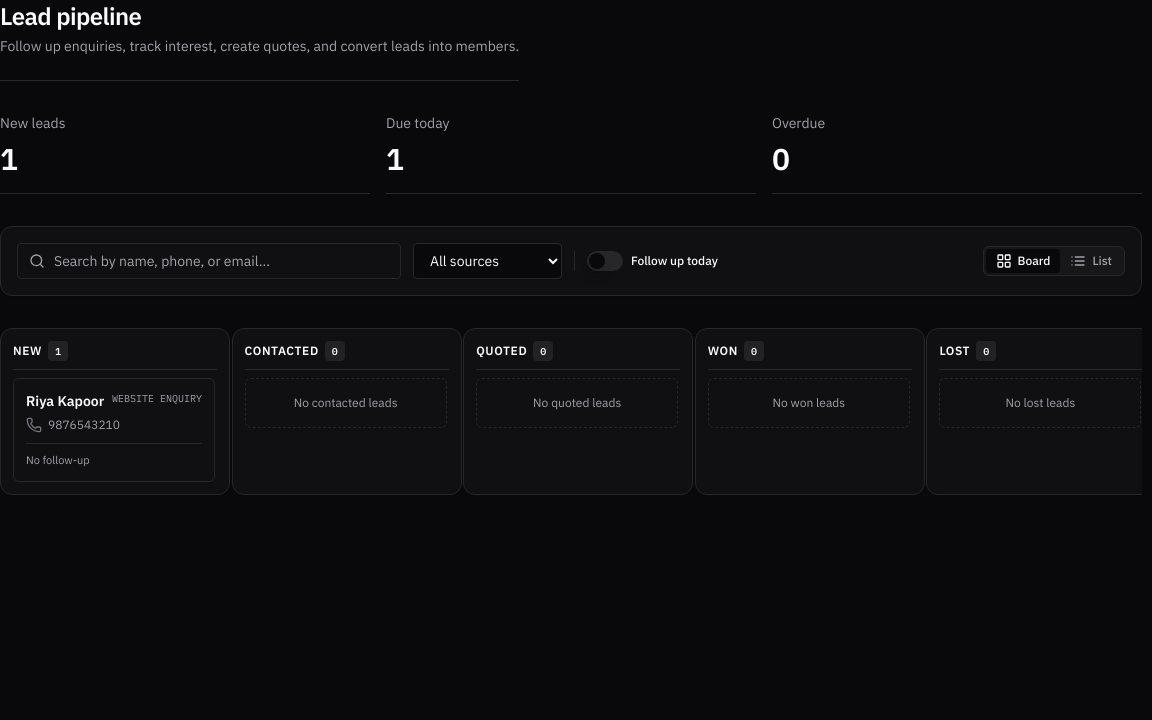
it: CRM pipeline (Issue #73) › allows read-only lead detail without mutation controls
Click the text "Riya Kapoor" at (65, 401), box [26,391,104,411]
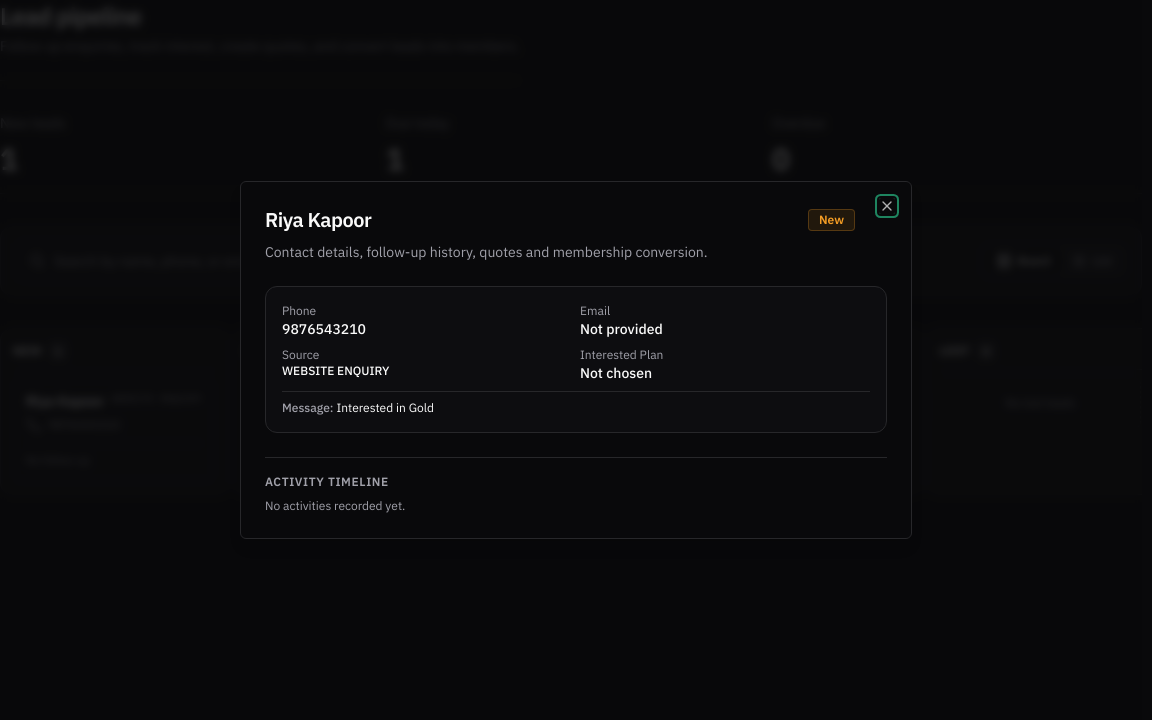
Expected: the text "Interested in Gold" is shown, [336,400,434,415]
